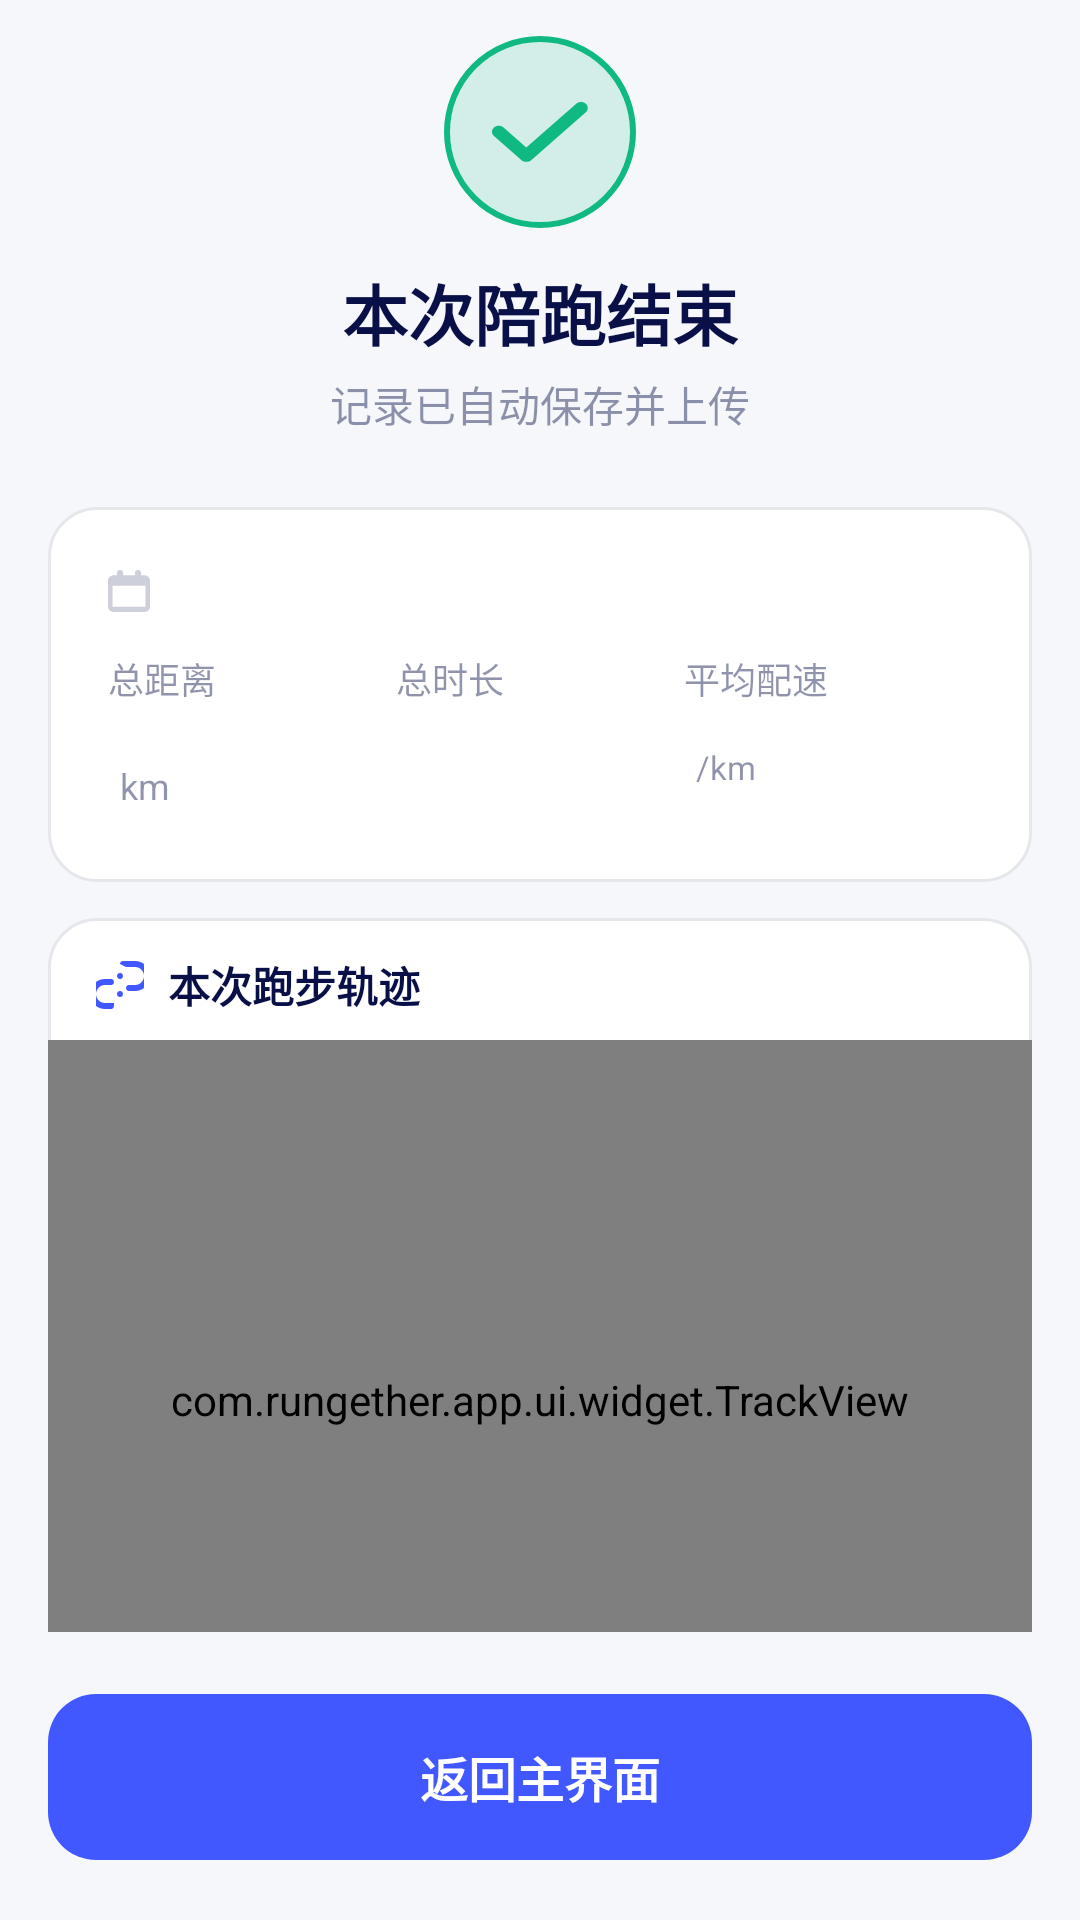

Screen size 1080*1920. Icon name, then its center in pixels as point (x, y):
calendar: point (129, 591)
check: point (540, 132)
route: point (120, 985)
